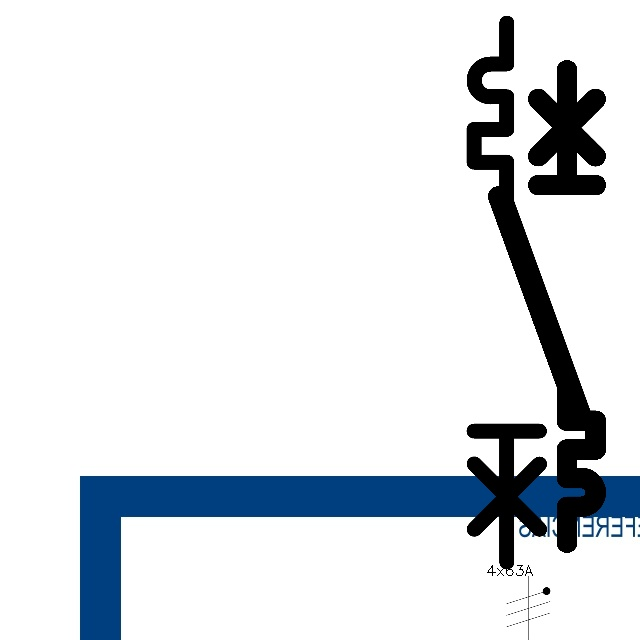interruptor_termomagnetico: (460, 9, 599, 576), (486, 58, 608, 555)
